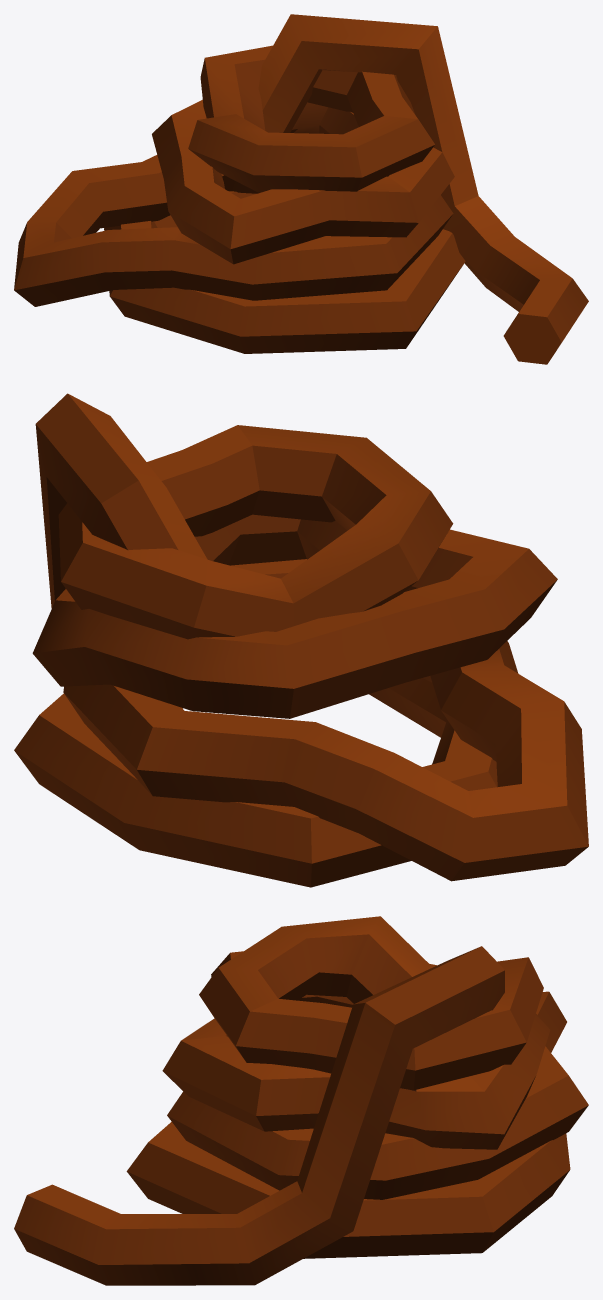
The model's file is Coil_1_VC.fbx.
3 renders of one model, top to bottom at view 1: azimuth 30°, elevation 25°; view 2: azimuth 150°, elevation 25°; view 3: azimuth 270°, elevation 25°, orthographic. The views are drawn at different scales.
Parts seen in each view (by area): view 1: Coil_1; view 2: Coil_1; view 3: Coil_1.
Boxes of the visible parts, bbox=[...] form: Coil_1: bbox=[14, 14, 588, 364]; Coil_1: bbox=[14, 393, 588, 887]; Coil_1: bbox=[14, 916, 588, 1285].
Size of the model in its own units: 1.08 by 0.5419 by 1.05.
